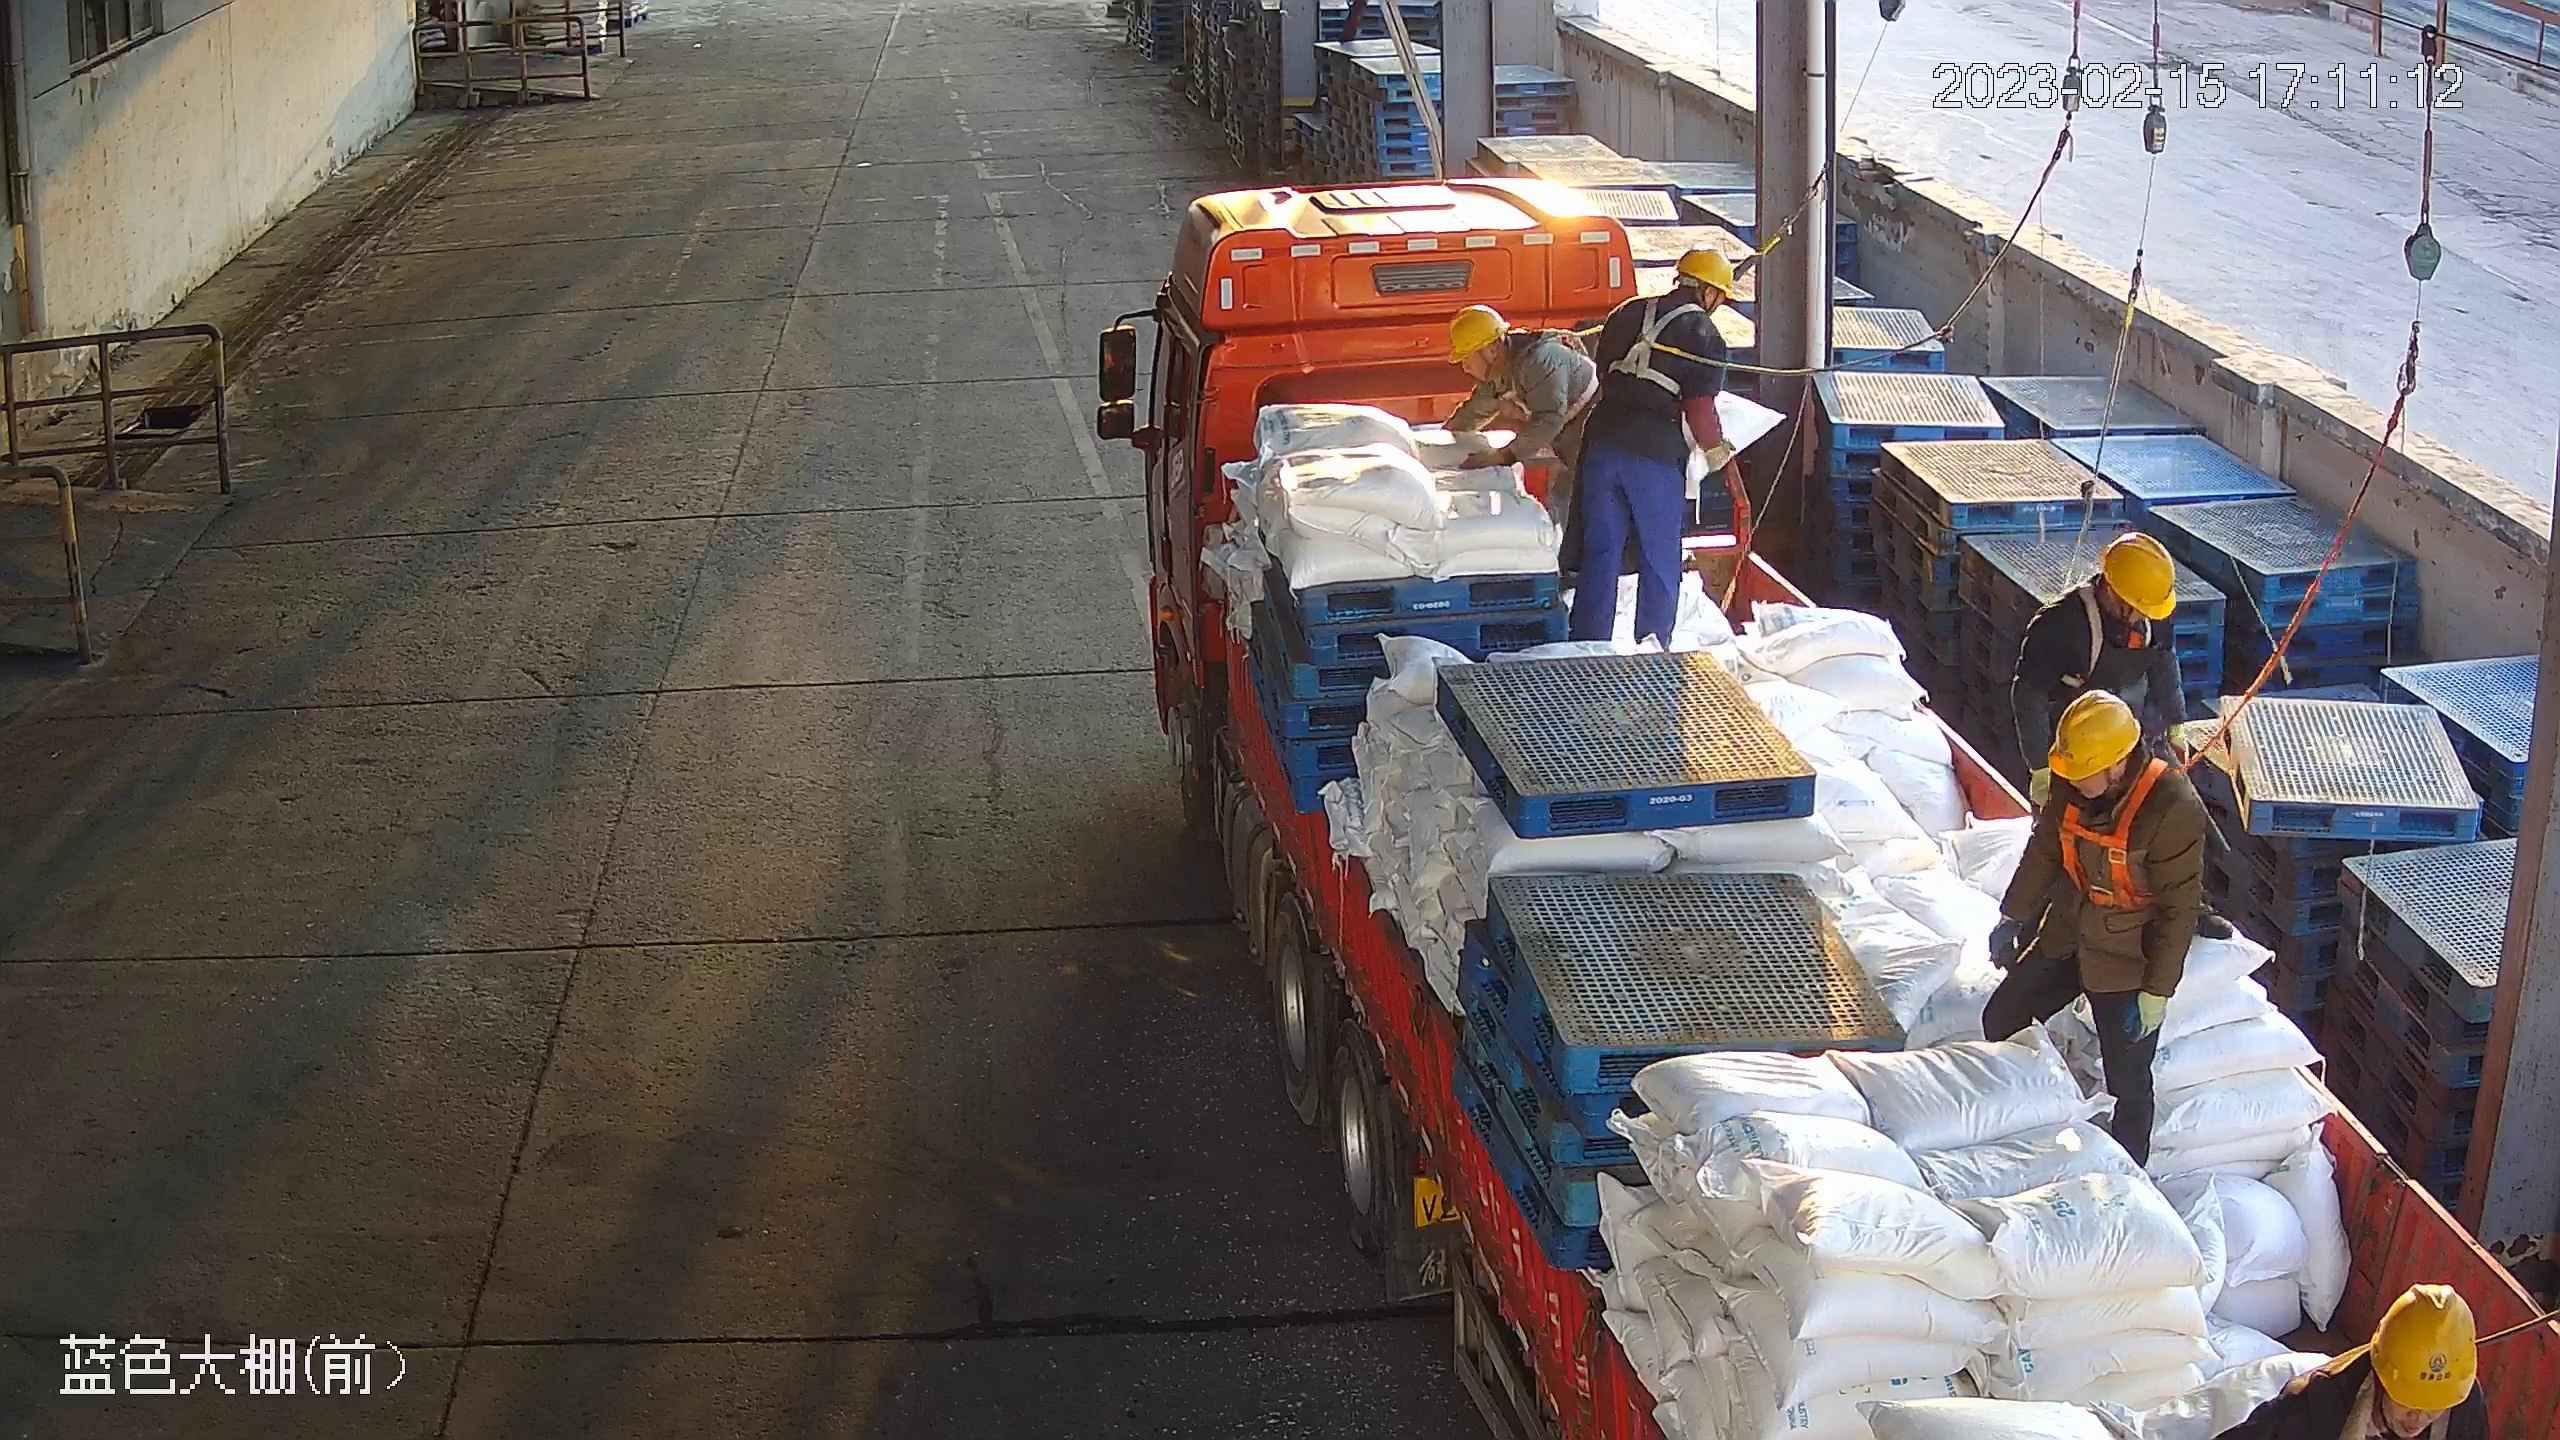belt: (2040, 763, 2191, 924), (2051, 584, 2178, 694), (1503, 318, 1595, 425), (1617, 301, 1707, 405), (2332, 1379, 2457, 1440)
head: (2223, 1276, 2493, 1440), (2012, 693, 2203, 886), (2018, 533, 2186, 683), (1440, 308, 1584, 420), (1605, 250, 1730, 378)
helmet: (2367, 1284, 2478, 1410), (2047, 691, 2143, 781), (2096, 532, 2176, 623), (1447, 306, 1512, 367), (1674, 250, 1735, 296)
people: (2001, 691, 2206, 1178), (1566, 247, 1740, 645)
truck: (1095, 171, 2560, 1440)
